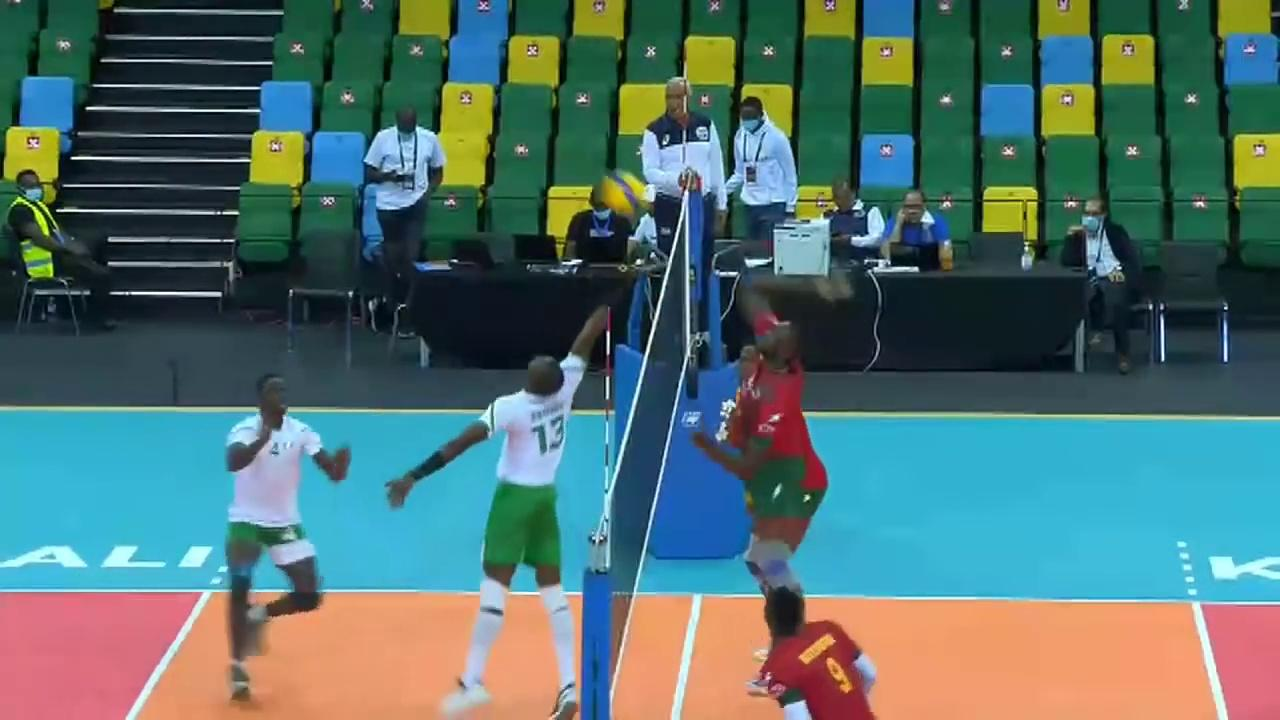player: (388, 332, 597, 713), (209, 371, 353, 705), (727, 341, 826, 691), (736, 276, 814, 637), (751, 581, 890, 720)
refree: (632, 69, 730, 298)
